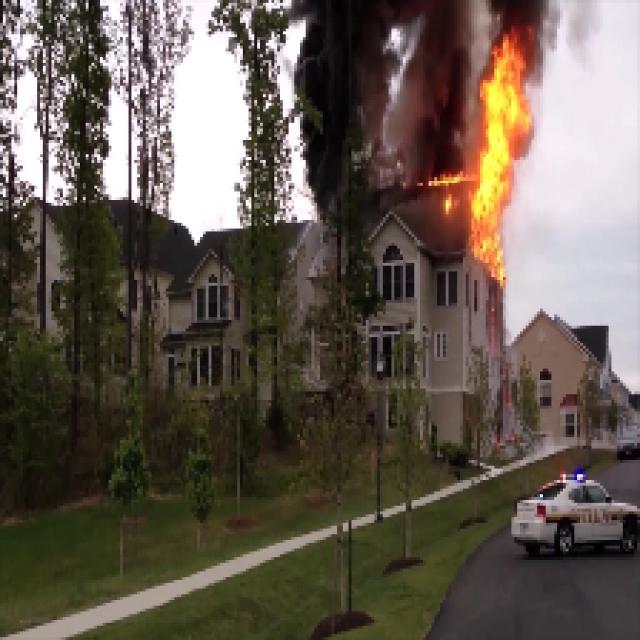fire: (472, 48, 529, 281)
smoke: (314, 8, 461, 173)
